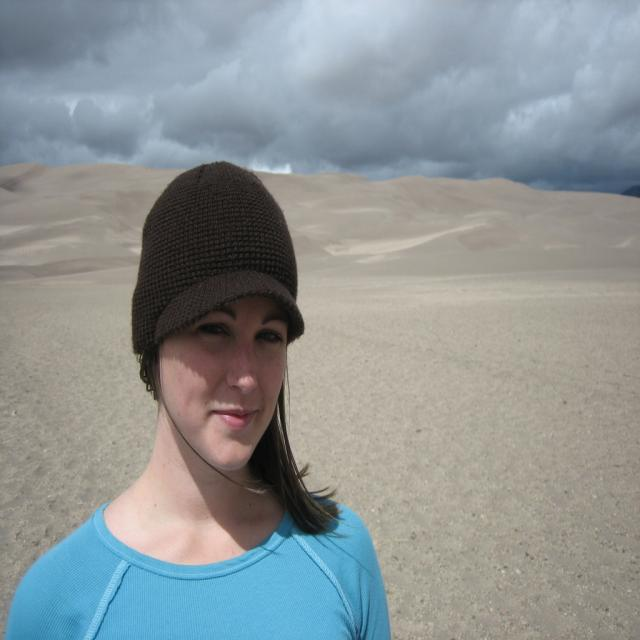Hat: (132, 158, 304, 352)
